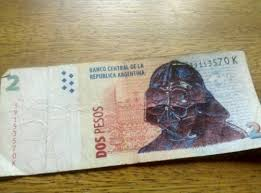billete: (1, 51, 261, 178)
